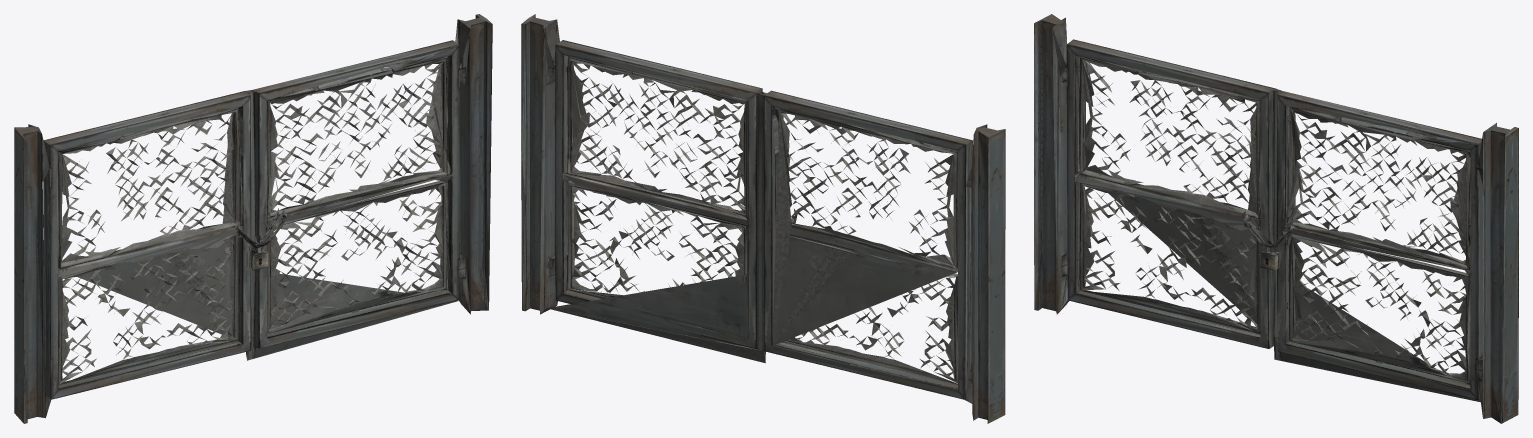
Rendered from zone_sub_gate.glb.
The picture shows the model from 3 angles, left to right: view 1: azimuth 30°, elevation 25°; view 2: azimuth 150°, elevation 25°; view 3: azimuth 330°, elevation 25°; orthographic projection.
Bounding box in the file's own units: 1.9 × 1.11 × 0.1299.
1 material, 1 textured.
